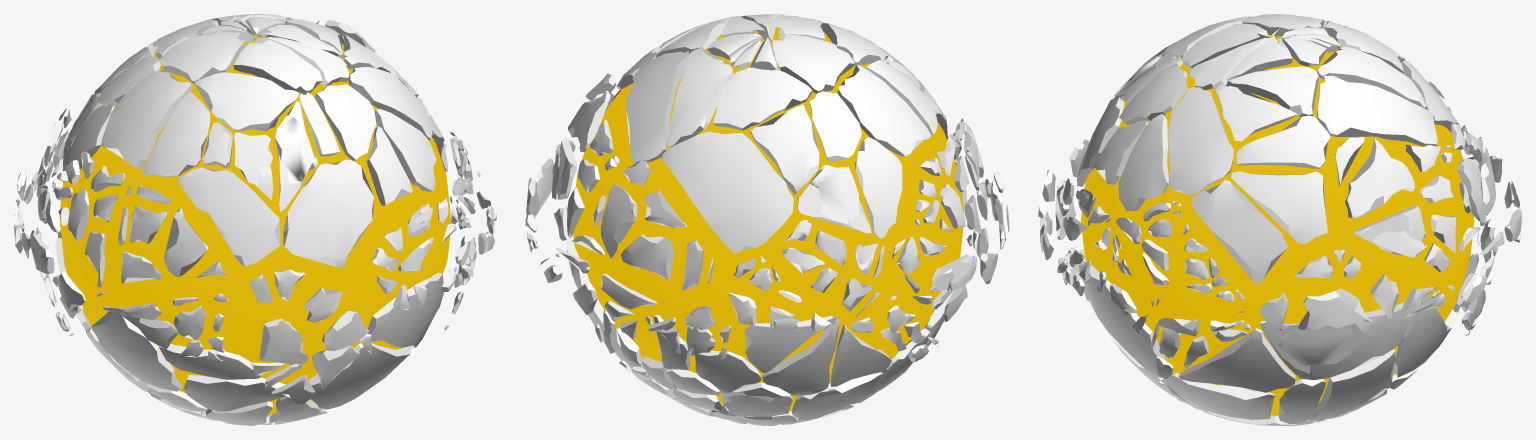
The model's file is Termanation1.glb.
3 views of the same model, side by side, from view 1: azimuth 30°, elevation 25°; view 2: azimuth 150°, elevation 25°; view 3: azimuth 270°, elevation 25° (orthographic).
Visible parts, largest first — view 1: Sphere, Sphere_cell.085, Sphere_cell.016, Sphere_cell.060, Sphere_cell.073, Sphere_cell.018, Sphere_cell.059, Sphere_cell.031, Sphere_cell.045, Sphere_cell.093, Sphere_cell.086, Sphere_cell.010 (+42 smaller); view 2: Sphere, Sphere_cell.056, Sphere_cell.035, Sphere_cell.060, Sphere_cell.052, Sphere_cell.084, Sphere_cell.021, Sphere_cell.002, Sphere_cell.086, Sphere_cell.043, Sphere_cell.048, Sphere_cell.076 (+49 smaller); view 3: Sphere, Sphere_cell.035, Sphere_cell.063, Sphere_cell.096, Sphere_cell.012, Sphere_cell.039, Sphere_cell.095, Sphere_cell.008, Sphere_cell.055, Sphere_cell.030_cell.085, Sphere_cell.045, Sphere_cell.046 (+40 smaller).
Boxes of the visible parts, x1=… form: Sphere: x1=59, y1=35, x2=451, y2=415; Sphere_cell.085: x1=283, y1=159, x2=373, y2=267; Sphere_cell.016: x1=178, y1=167, x2=280, y2=266; Sphere_cell.060: x1=101, y1=70, x2=192, y2=168; Sphere_cell.073: x1=194, y1=72, x2=298, y2=131; Sphere_cell.018: x1=141, y1=91, x2=210, y2=177; Sphere_cell.059: x1=91, y1=311, x2=182, y2=391; Sphere_cell.031: x1=308, y1=343, x2=411, y2=409; Sphere_cell.045: x1=367, y1=272, x2=443, y2=347; Sphere_cell.093: x1=314, y1=84, x2=376, y2=160; Sphere_cell.086: x1=160, y1=30, x2=246, y2=84; Sphere_cell.010: x1=233, y1=39, x2=322, y2=93; Sphere: x1=573, y1=27, x2=964, y2=411; Sphere_cell.056: x1=661, y1=131, x2=793, y2=253; Sphere_cell.035: x1=626, y1=50, x2=689, y2=163; Sphere_cell.060: x1=837, y1=64, x2=931, y2=156; Sphere_cell.052: x1=713, y1=67, x2=812, y2=130; Sphere_cell.084: x1=668, y1=48, x2=733, y2=146; Sphere_cell.021: x1=750, y1=104, x2=819, y2=193; Sphere_cell.002: x1=854, y1=136, x2=902, y2=238; Sphere_cell.086: x1=772, y1=34, x2=854, y2=93; Sphere_cell.043: x1=762, y1=317, x2=839, y2=395; Sphere_cell.048: x1=809, y1=91, x2=861, y2=161; Sphere_cell.076: x1=744, y1=316, x2=837, y2=373; Sphere: x1=1081, y1=34, x2=1474, y2=415; Sphere_cell.035: x1=1317, y1=75, x2=1437, y2=146; Sphere_cell.063: x1=1168, y1=87, x2=1233, y2=195; Sphere_cell.096: x1=1191, y1=180, x2=1287, y2=284; Sphere_cell.012: x1=1231, y1=171, x2=1327, y2=243; Sphere_cell.039: x1=1260, y1=299, x2=1421, y2=380; Sphere_cell.095: x1=1178, y1=328, x2=1295, y2=392; Sphere_cell.008: x1=1236, y1=115, x2=1330, y2=168; Sphere_cell.055: x1=1118, y1=114, x2=1168, y2=211; Sphere_cell.030_cell.085: x1=1345, y1=138, x2=1414, y2=218; Sphere_cell.045: x1=1079, y1=261, x2=1165, y2=377; Sphere_cell.046: x1=1309, y1=349, x2=1395, y2=421.
Size of the model in its own units: 2.33 by 1.98 by 2.32.
